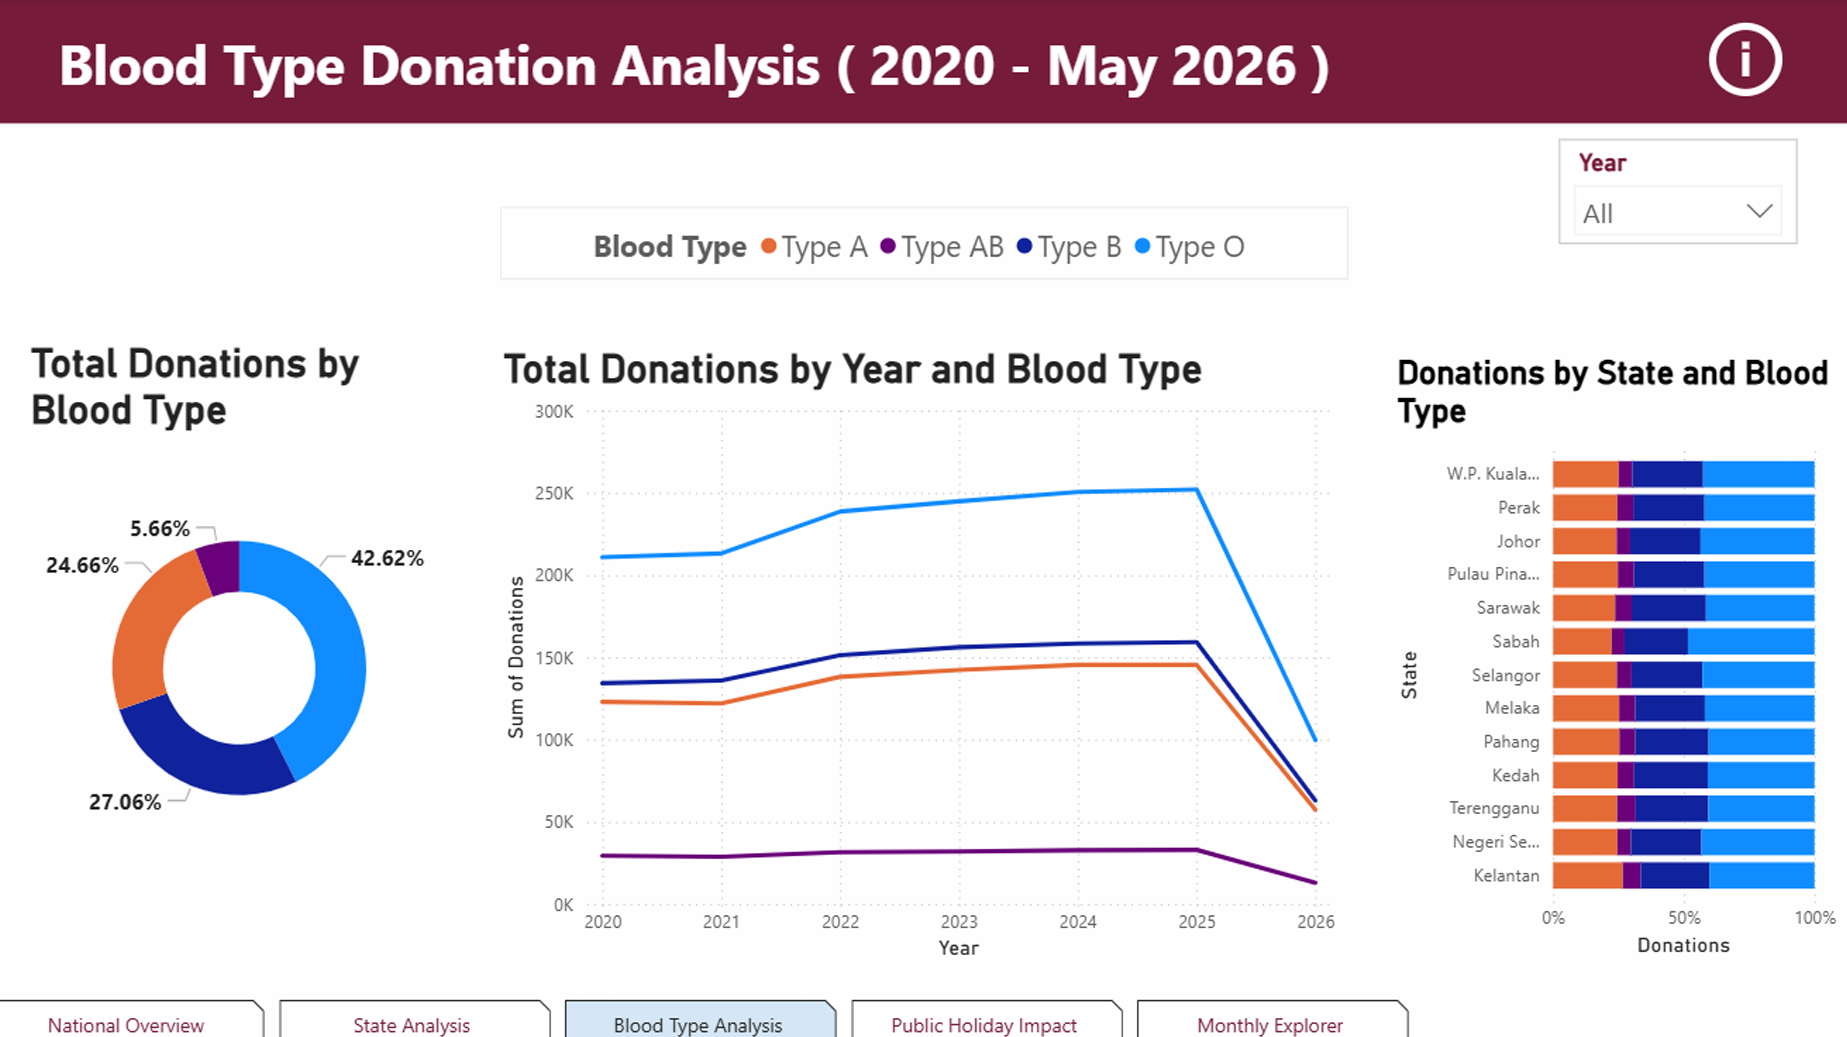

What the dashboard file says about the page in this screenshot:
{"tool":"powerbi","page":{"name":"Blood Type Analysis","canvas":[1280,720],"ordinal":2},"visuals":[{"type":"textbox","box":[0,0,1280,86.7],"z":0},{"type":"donutChart","title":"Total Donations by Blood Type","fields":{"Category":["blood_donations_final.Blood Type"],"Y":["Sum(blood_donations_final.Donations)"]},"box":[26,216,292,404],"z":1000},{"type":"lineChart","title":"Total Donations by Year and Blood Type","fields":{"Category":["blood_donations_final.Year"],"Y":["Sum(blood_donations_final.Donations)"],"Series":["blood_donations_final.Blood Type"]},"box":[346,238,588,428],"z":2000},{"type":"donutChart","fields":{"Category":["blood_donations_final.Blood Type"]},"box":[350,144,584,50],"z":3000},{"type":"slicer","fields":{"Values":["blood_donations_final.Date.Variation.Date Hierarchy.Year"]},"box":[1078,98,164,72],"z":4000},{"type":"hundredPercentStackedBarChart","title":"Donations by State and Blood Type","fields":{"Category":["blood_donations_final.State"],"Y":["Sum(blood_donations_final.Donations)"],"Series":["blood_donations_final.Blood Type"]},"box":[962,244,312,420],"z":5000},{"type":"actionButton","box":[1176,12,66,62],"z":6000},{"type":"pageNavigator","box":[0,690,978,30],"z":7000}]}

Visuals, with their boxes in screenshot pixels (x1, y1, x2, y2), scaled from the page's 1280x720 canvas onto the 1847x1037 screenshot:
textbox: (x1=0, y1=0, x2=1846, y2=125)
"Total Donations by Blood Type" donutChart: (x1=38, y1=311, x2=459, y2=893)
"Total Donations by Year and Blood Type" lineChart: (x1=499, y1=343, x2=1348, y2=959)
donutChart - blood_donations_final.Blood Type: (x1=505, y1=207, x2=1348, y2=279)
slicer - blood_donations_final.Date.Variation.Date Hierarchy.Year: (x1=1556, y1=141, x2=1792, y2=245)
"Donations by State and Blood Type" hundredPercentStackedBarChart: (x1=1388, y1=351, x2=1838, y2=956)
actionButton: (x1=1697, y1=17, x2=1792, y2=107)
pageNavigator: (x1=0, y1=994, x2=1411, y2=1036)
